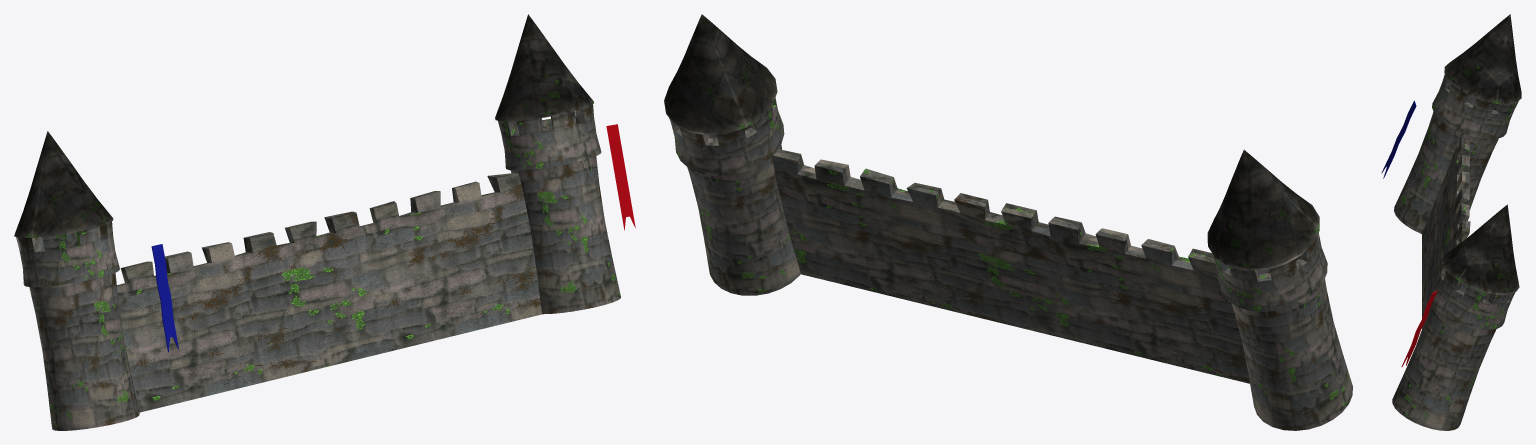
The model's file is tower_menu.FBX.
The picture shows the model from 3 angles, left to right: view 1: azimuth 30°, elevation 25°; view 2: azimuth 150°, elevation 25°; view 3: azimuth 270°, elevation 25°; orthographic projection. The views are drawn at different scales.
Visible parts, largest first — view 1: Box040, Cylinder101, Cylinder098, Tower, Flags; view 2: Box040, Cylinder101, Cylinder098; view 3: Cylinder098, Cylinder101, Box040, Flags, Tower.
Part boxes in pixels (left/top/right/bottom): Box040: left=117, top=173, right=541, bottom=412; Cylinder101: left=14, top=131, right=139, bottom=430; Cylinder098: left=495, top=14, right=620, bottom=314; Tower: left=606, top=124, right=635, bottom=230; Flags: left=151, top=244, right=178, bottom=352; Box040: left=772, top=149, right=1249, bottom=383; Cylinder101: left=1207, top=150, right=1352, bottom=430; Cylinder098: left=664, top=14, right=800, bottom=295; Cylinder098: left=1392, top=204, right=1519, bottom=430; Cylinder101: left=1394, top=14, right=1521, bottom=233; Box040: left=1422, top=137, right=1470, bottom=328; Flags: left=1381, top=100, right=1416, bottom=178; Tower: left=1401, top=291, right=1437, bottom=366.
Size of the model in its own units: 1317 by 595 by 345.
Materials: 4 (2 with a texture image).
